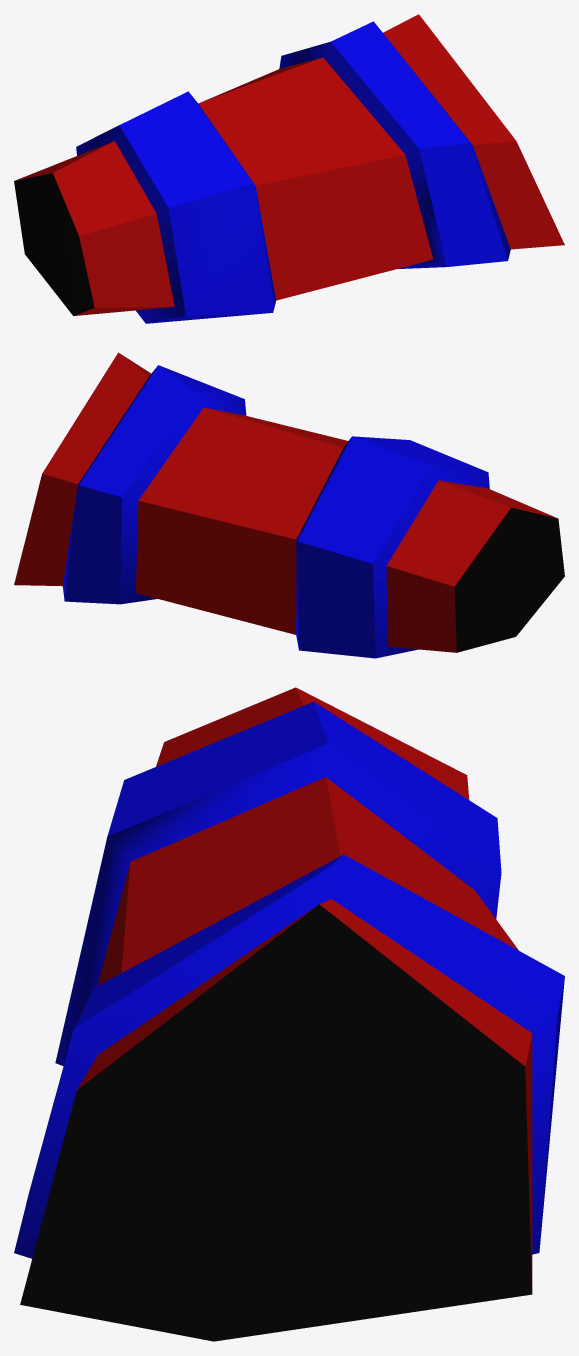
Rendered from Chr_ArmUpperRight_Male_Static_02.fbx.
3 views of the same model, one above another, from view 1: azimuth 30°, elevation 25°; view 2: azimuth 150°, elevation 25°; view 3: azimuth 270°, elevation 25° (orthographic). The views are drawn at different scales.
Visible parts, largest first — view 1: Chr_ArmUpperRight_Male_02; view 2: Chr_ArmUpperRight_Male_02; view 3: Chr_ArmUpperRight_Male_02.
Part boxes in pixels (bbox=[...]): Chr_ArmUpperRight_Male_02: bbox=[14, 14, 564, 323]; Chr_ArmUpperRight_Male_02: bbox=[14, 352, 564, 658]; Chr_ArmUpperRight_Male_02: bbox=[14, 687, 564, 1341].
Size of the model in its own units: 32.04 by 16.13 by 18.67.
